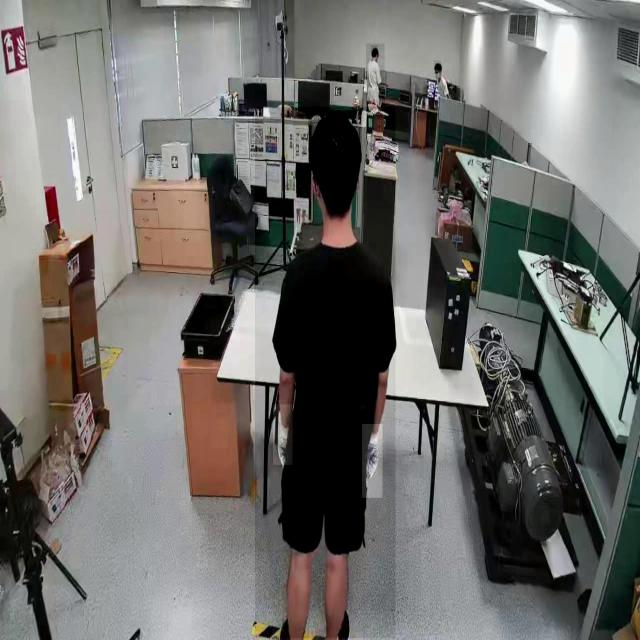hand_glove: (362, 424, 383, 499), (273, 404, 293, 466)
head_nohelmet: (308, 110, 362, 163), (434, 60, 442, 70), (371, 46, 378, 54)
person: (255, 107, 396, 639), (366, 43, 385, 113)
